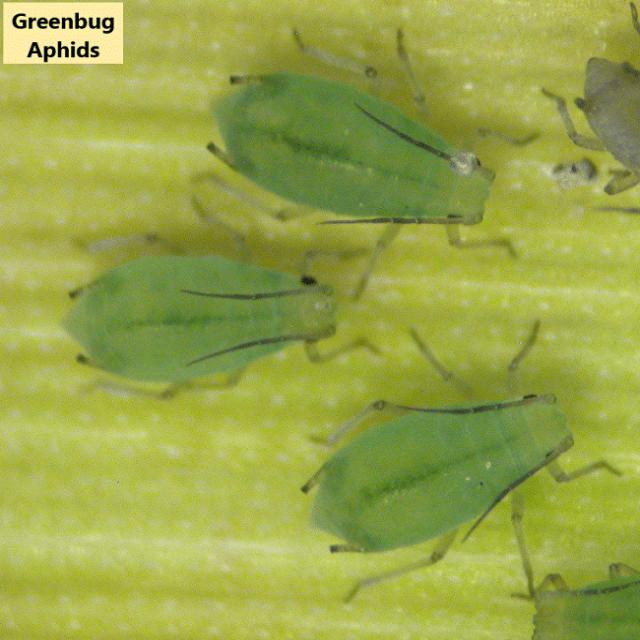Aphid-Grown-: (301, 313, 608, 573), (194, 21, 520, 258), (31, 208, 375, 398)
